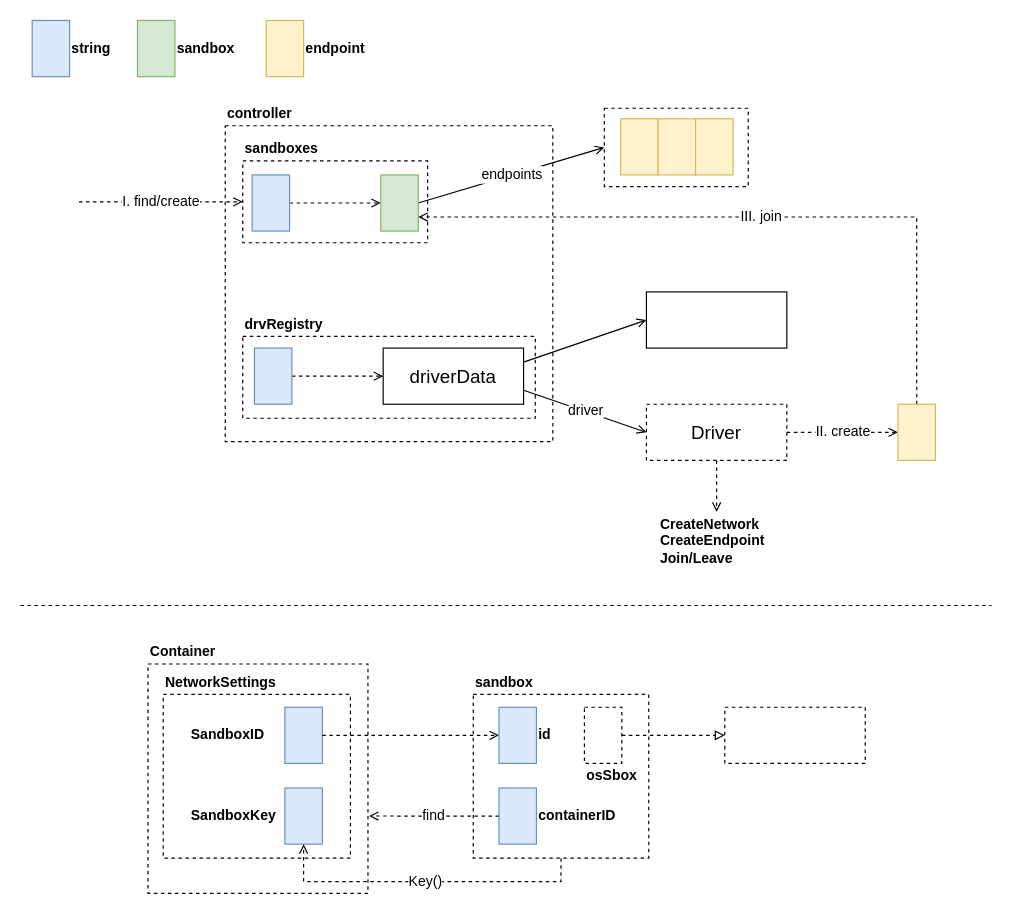
The diagram is 1013 pixels wide and 914 high, and some of its shapes have lost their labels. The shapes that lost their labels are listed below. From the top down, each one's centre as x and y in pixels, then its label:
At (716,319): "Capability".
At (794,734): "osl.Sandbox".
